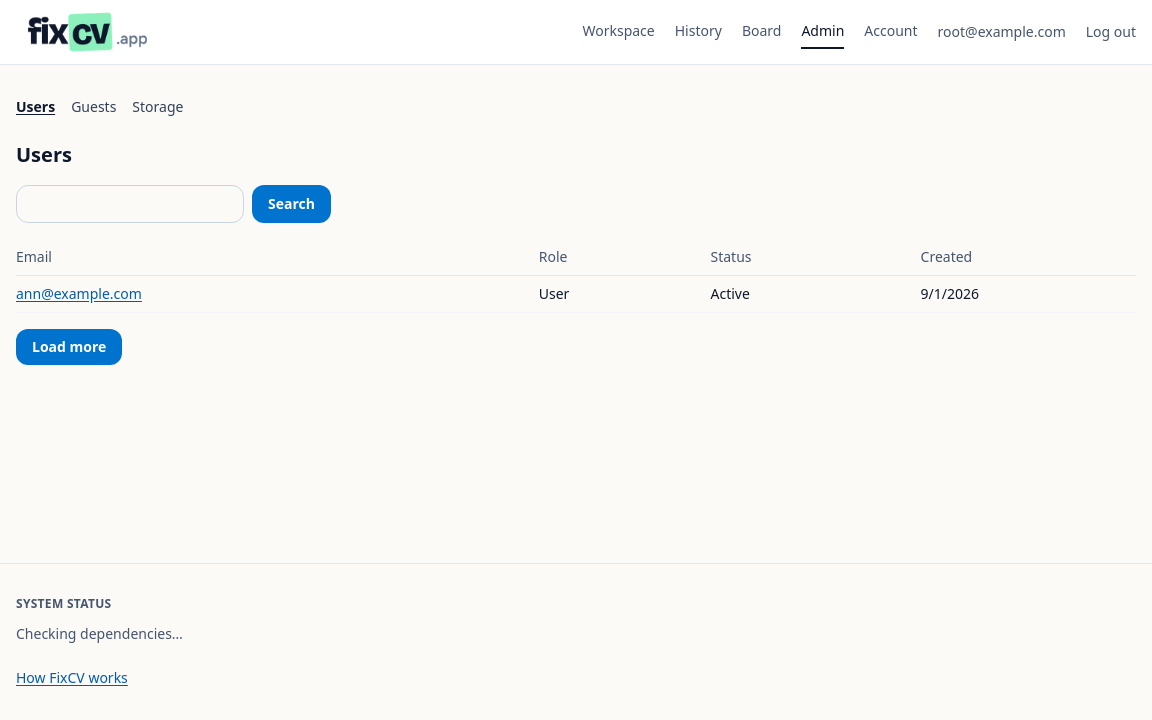
Test: /admin user list — AC-31 › Load more while next_cursor is set: sends the cursor, appends, and vanishes on the last page
The width and height of the screenshot is (1152, 720).
expect the link "ann@example.com" is shown: met, box [16,284,142,303]
What coordinates should you click on to do the following:
click the button "Load more"
I would click on:
 (69, 347)
Its box is [16,329,122,365].
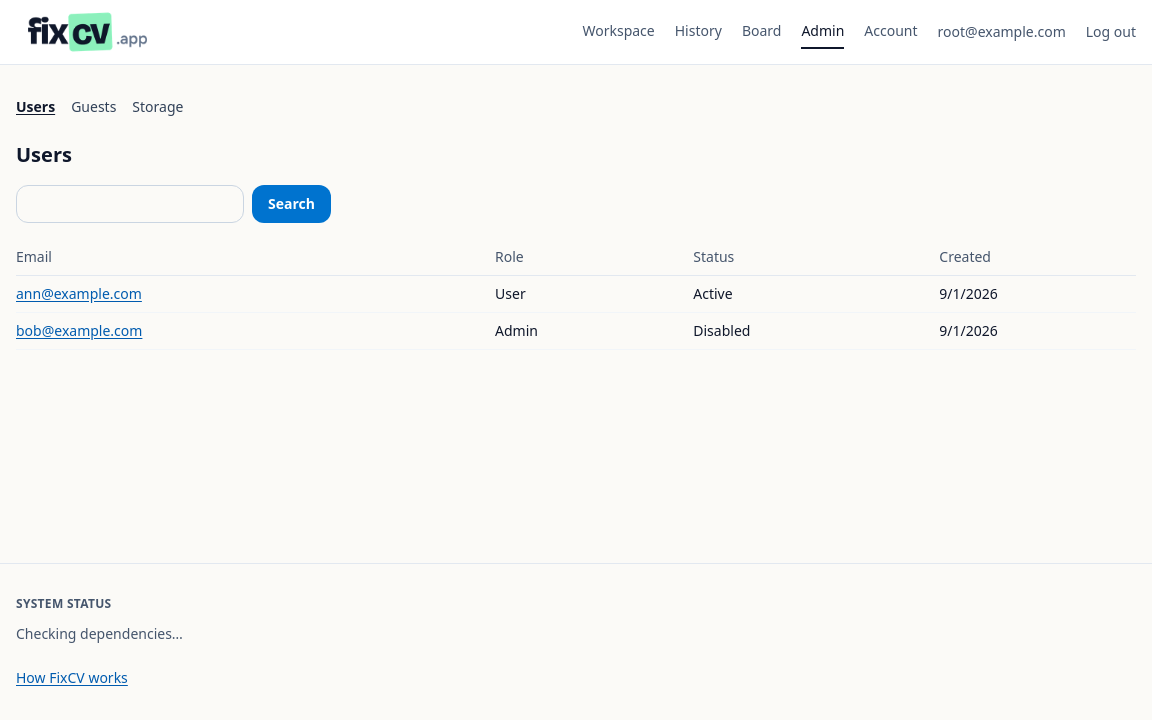
expect the link "ann@example.com" is shown: met, box [16,284,142,303]
expect the link "bob@example.com" is shown: met, box [16,321,142,340]
expect the button "Load more" is gone: met
